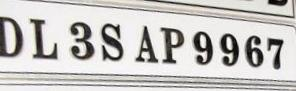3: (67, 18, 95, 64)
6: (245, 32, 265, 72)
7: (266, 35, 286, 73)
9: (192, 25, 216, 70), (217, 29, 241, 67)
A: (133, 21, 159, 68)
D: (0, 11, 25, 61)
L: (27, 12, 62, 63)
P: (159, 25, 186, 68)
S: (98, 16, 127, 64)
